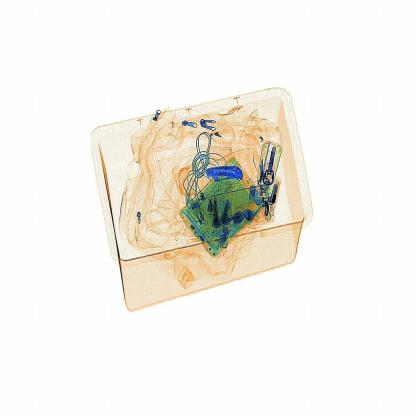knife: (201, 154, 257, 187)
